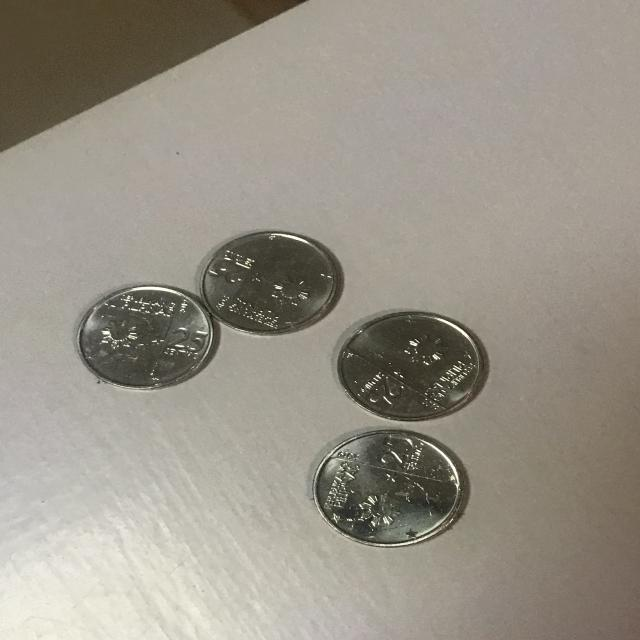25Cent_New_Front: (350, 321, 475, 415), (330, 443, 455, 527), (89, 304, 207, 379), (212, 246, 316, 322)
